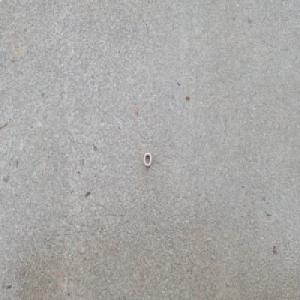Nut: (143, 151, 152, 168)
